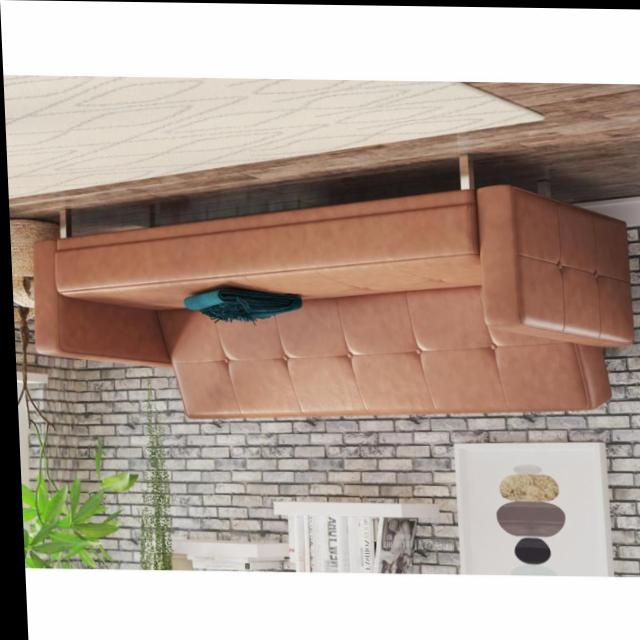Sofa: (24, 148, 634, 425)
